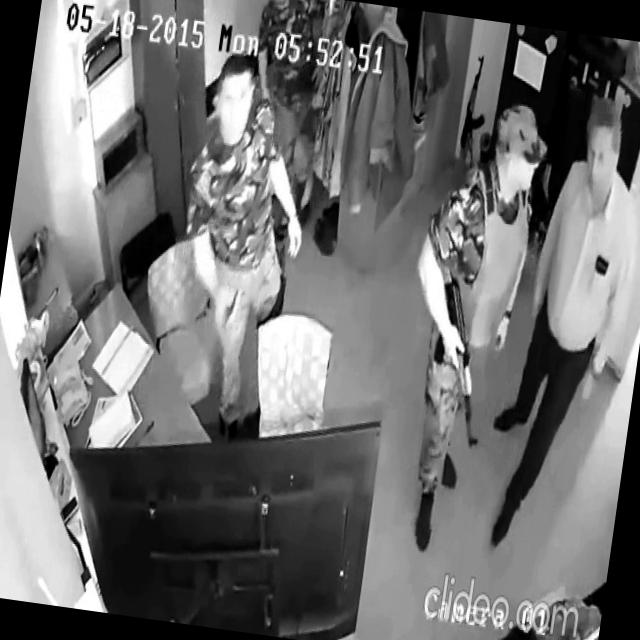gun: (418, 270, 504, 453), (454, 51, 494, 188)
person: (475, 86, 640, 562), (153, 48, 329, 442), (234, 0, 333, 205)
person with a gun: (378, 90, 554, 564)
